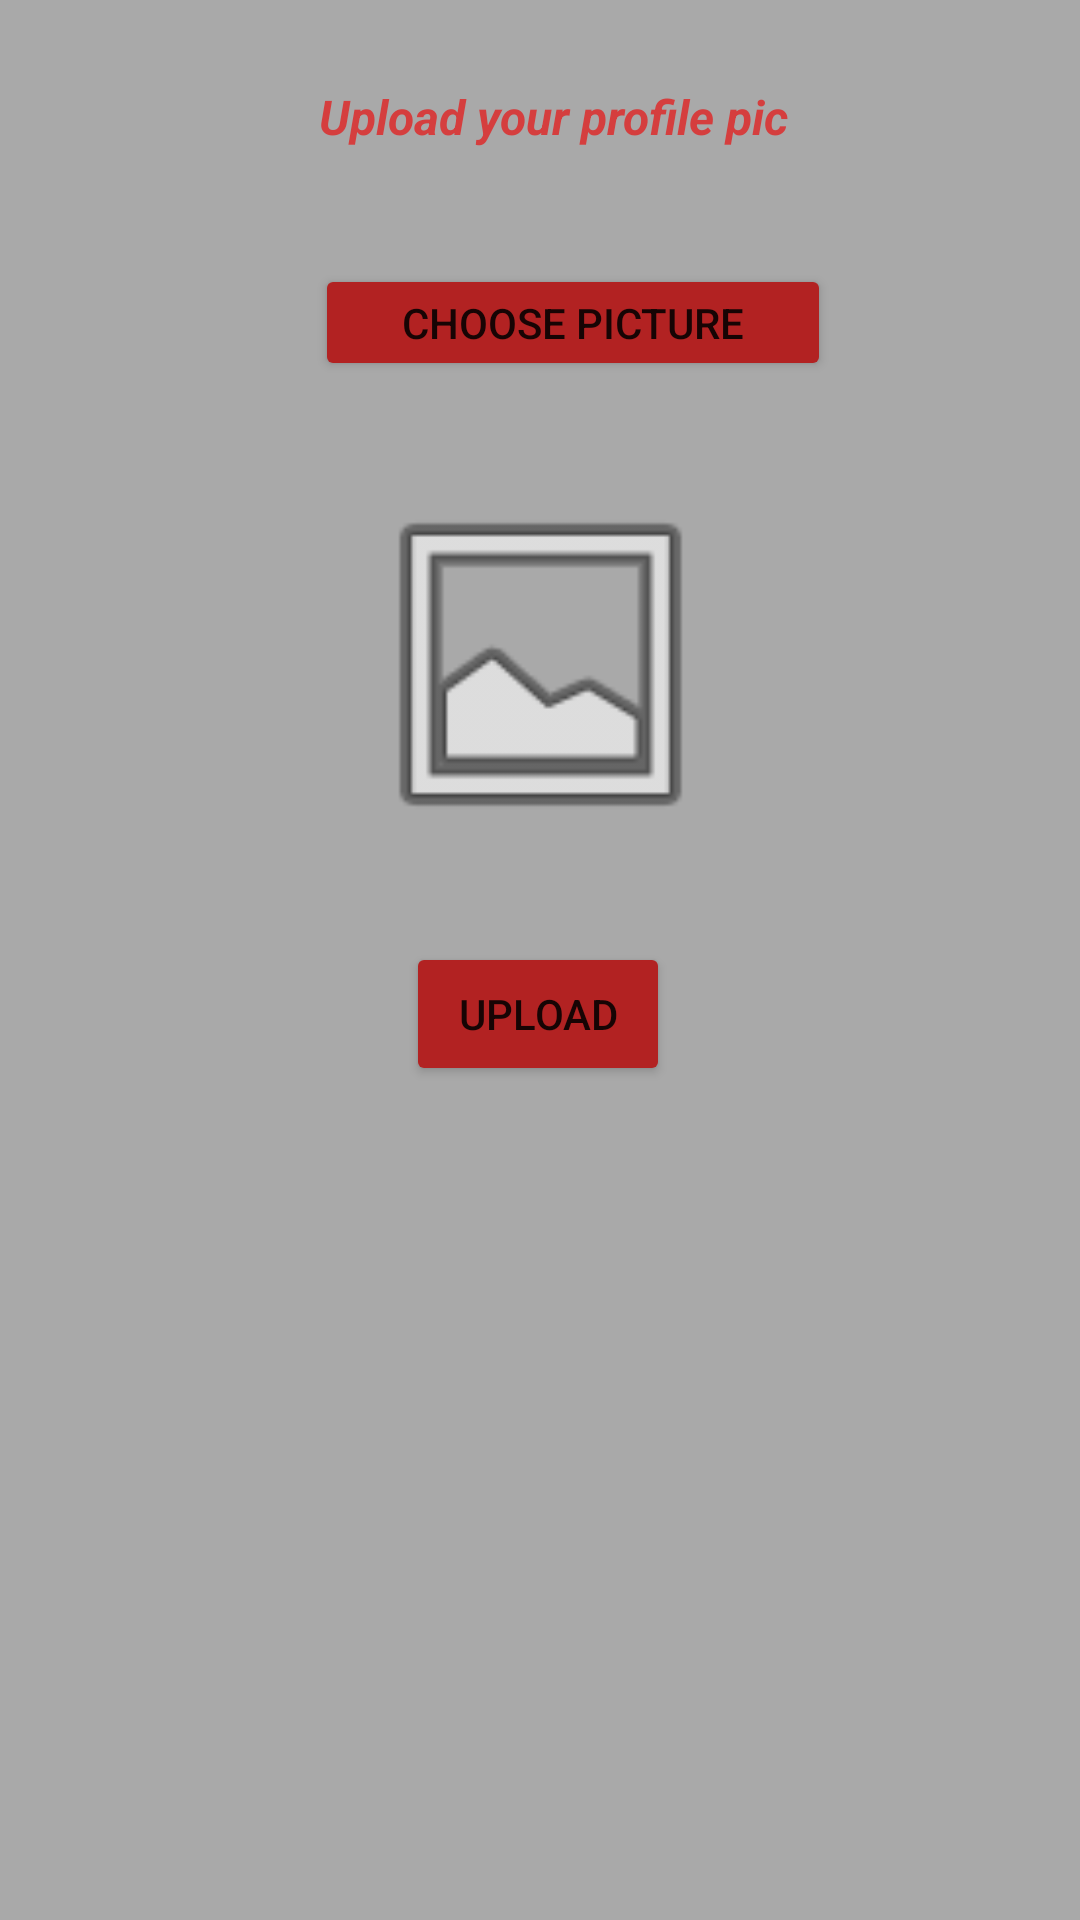

Point at icon controls on the screen. Image size 1080 x 1920, points as point (x, y).
gallery: point (540, 664)
